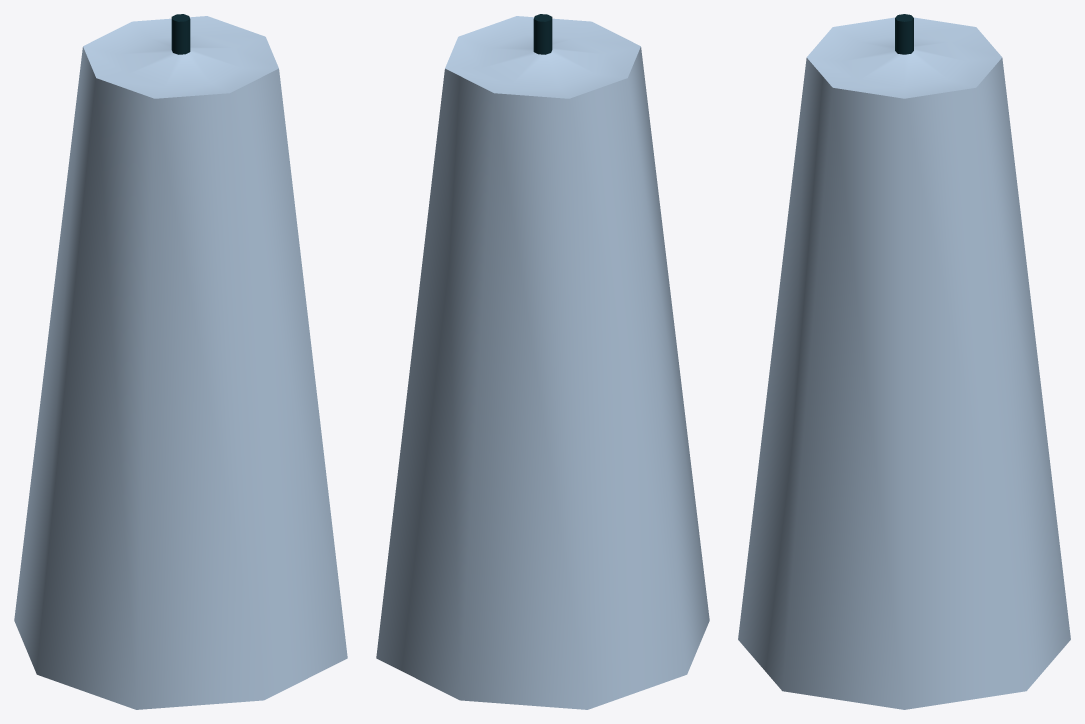
The model's file is Candles2.fbx.
3 views of the same model, side by side, from view 1: azimuth 30°, elevation 25°; view 2: azimuth 150°, elevation 25°; view 3: azimuth 270°, elevation 25° (orthographic).
Visible parts, largest first — view 1: Candles2; view 2: Candles2; view 3: Candles2.
Part boxes in pixels (x1,y1,x2,y2): Candles2: (14,14,347,709); Candles2: (376,14,709,709); Candles2: (738,14,1070,709).
Size of the model in its own units: 0.4079 by 0.8404 by 0.4079.
